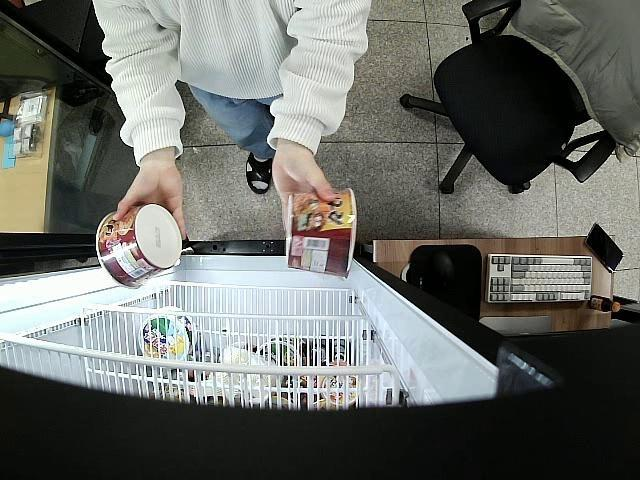05_nuguri_L: (95, 204, 185, 288), (284, 191, 360, 282)
